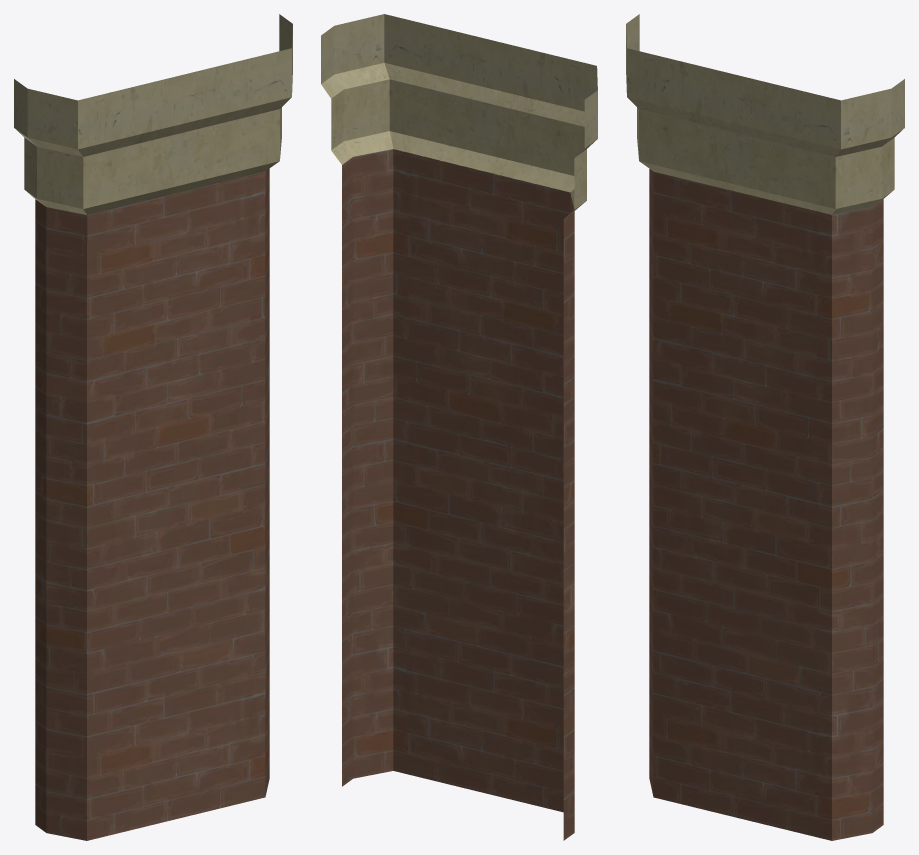
The model's file is Brick_HalfColumn_Top.glb.
3 renders of one model, left to right at view 1: azimuth 30°, elevation 25°; view 2: azimuth 150°, elevation 25°; view 3: azimuth 330°, elevation 25°, orthographic.
Visible parts, largest first — view 1: Brick_HalfColumn_Top; view 2: Brick_HalfColumn_Top; view 3: Brick_HalfColumn_Top.
Part boxes in pixels (x1=…): Brick_HalfColumn_Top: x1=14, y1=14, x2=292, y2=840; Brick_HalfColumn_Top: x1=321, y1=14, x2=597, y2=840; Brick_HalfColumn_Top: x1=626, y1=14, x2=904, y2=840.
Size of the model in its own units: 1.11 by 3 by 0.2763.
Materials: 2 (2 with a texture image).
